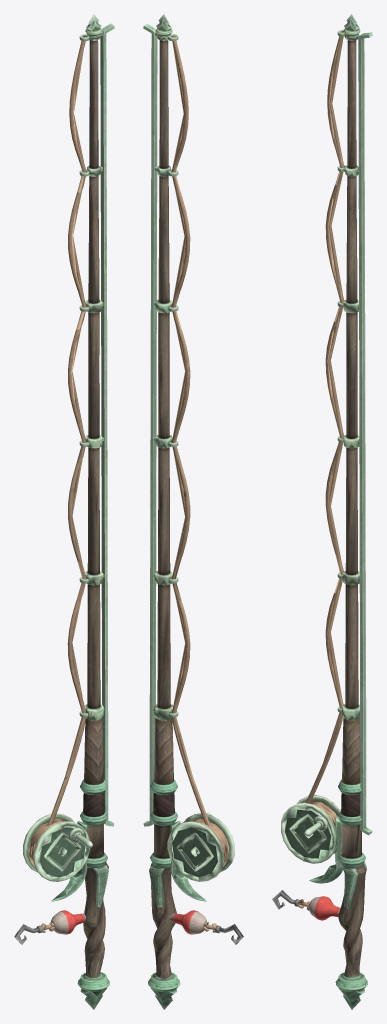
3 renders of one model, left to right at view 1: azimuth 30°, elevation 25°; view 2: azimuth 150°, elevation 25°; view 3: azimuth 330°, elevation 25°, orthographic.
Parts seen in each view (by area): view 1: SM_Fishing_Rod_Adamant_2H_01_LOD0; view 2: SM_Fishing_Rod_Adamant_2H_01_LOD0; view 3: SM_Fishing_Rod_Adamant_2H_01_LOD0.
Part boxes in pixels (<box>): SM_Fishing_Rod_Adamant_2H_01_LOD0: <box>14,14,114,1009</box>; SM_Fishing_Rod_Adamant_2H_01_LOD0: <box>143,14,243,1009</box>; SM_Fishing_Rod_Adamant_2H_01_LOD0: <box>272,14,372,1009</box>.
Size of the model in its own units: 0.2803 by 2.71 by 0.1529.
1 material, 1 textured.
